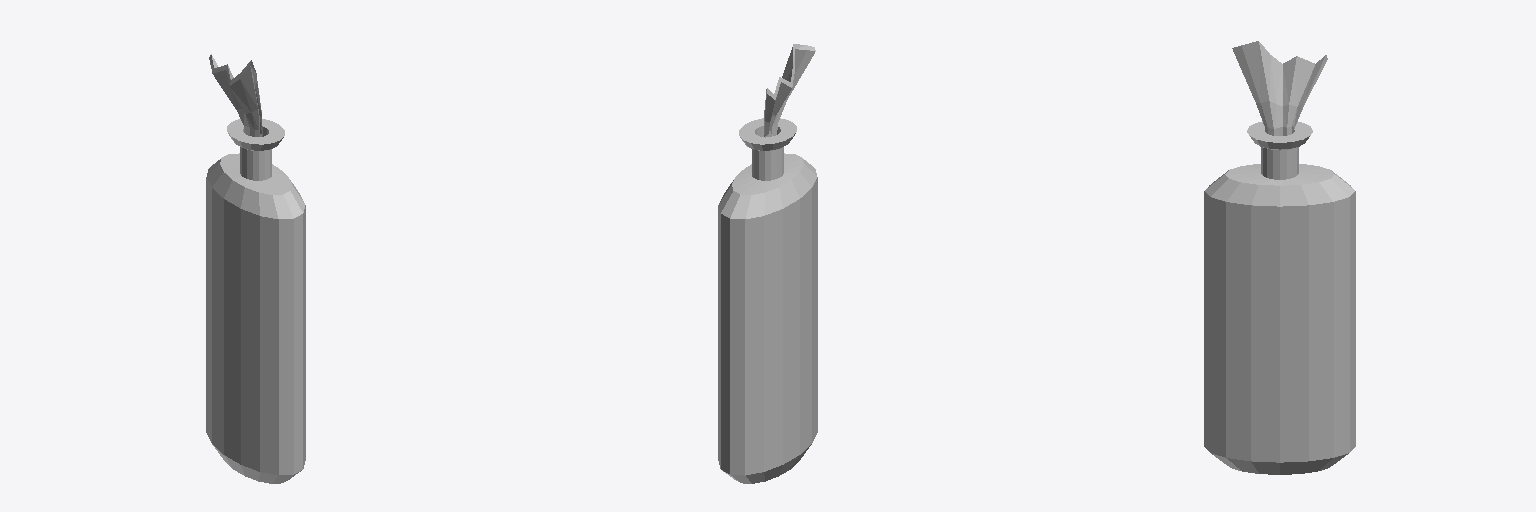
Rendered from wybuch_1.obj.
3 views of the same model, side by side, from view 1: azimuth 30°, elevation 25°; view 2: azimuth 150°, elevation 25°; view 3: azimuth 270°, elevation 25° (orthographic).
Parts seen in each view (by area): view 1: Plane; view 2: Plane; view 3: Plane.
Part boxes in pixels (left/top/right/bottom): Plane: left=206, top=54, right=305, bottom=483; Plane: left=718, top=44, right=817, bottom=483; Plane: left=1204, top=41, right=1355, bottom=474.
Bounding box in the file's own units: 1.69 × 10.41 × 3.43.